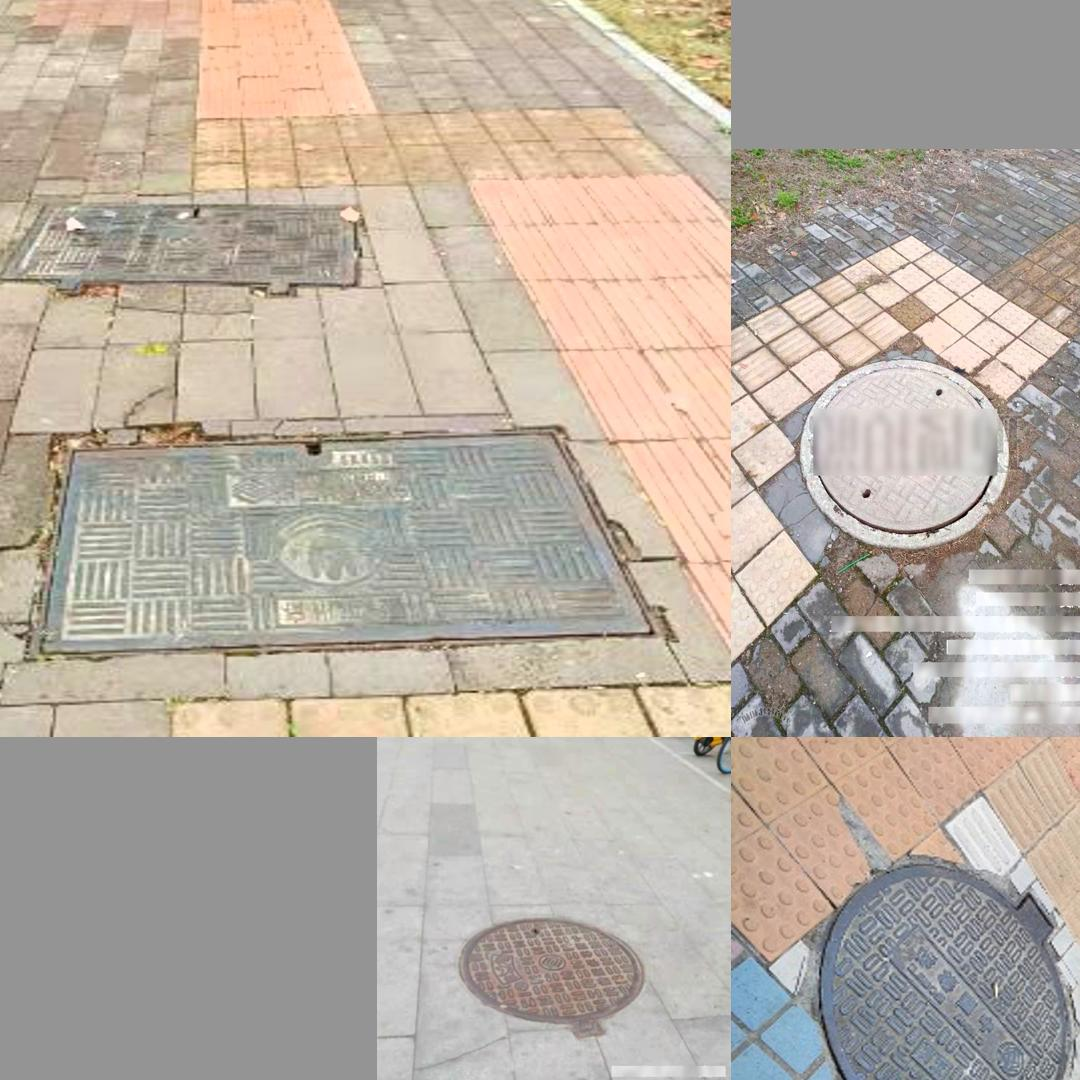good: (23, 423, 668, 662), (823, 860, 1073, 1080), (800, 359, 1010, 550), (0, 196, 359, 298), (457, 915, 644, 1040)
